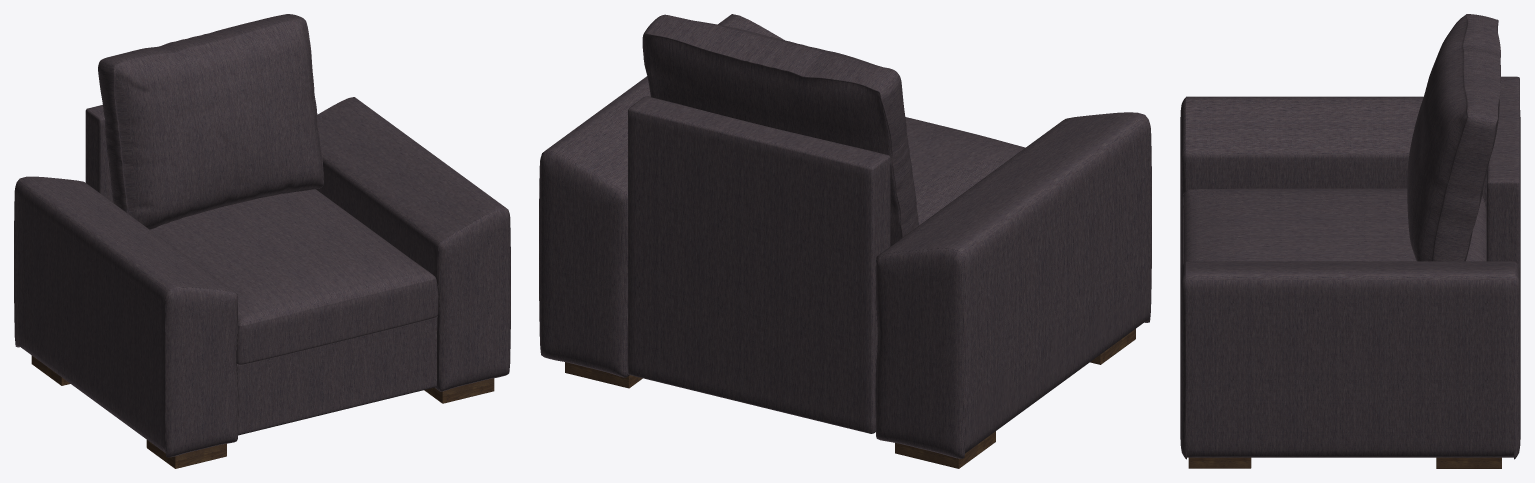
Rendered from Tapicerk_i_krzesla_fotel_darell.obj.
The picture shows the model from 3 angles, left to right: view 1: azimuth 30°, elevation 25°; view 2: azimuth 150°, elevation 25°; view 3: azimuth 270°, elevation 25°; orthographic projection. The views are drawn at different scales.
Visible parts, largest first — view 1: Object011, Box135, Object001, Object012, Box136, Box137, Box009, Box139; view 2: Box137, Object011, Box135, Object012, Object001, Box010, Box138; view 3: Object012, Object011, Object001, Box135, Box137, Box138, Box139.
Boxes of the visible parts, bbox=[...] form: Object011: bbox=[14, 176, 238, 457]; Box135: bbox=[98, 14, 323, 229]; Object001: bbox=[150, 189, 438, 364]; Object012: bbox=[316, 97, 510, 391]; Box136: bbox=[236, 316, 437, 435]; Box137: bbox=[85, 105, 113, 202]; Box009: bbox=[146, 440, 226, 468]; Box139: bbox=[424, 378, 494, 403]; Box137: bbox=[628, 96, 890, 433]; Object011: bbox=[875, 112, 1151, 458]; Box135: bbox=[642, 14, 919, 245]; Object012: bbox=[539, 14, 784, 377]; Object001: bbox=[905, 117, 1025, 225]; Box010: bbox=[895, 431, 995, 468]; Box138: bbox=[565, 362, 642, 388]; Object012: bbox=[1180, 261, 1520, 459]; Object011: bbox=[1180, 96, 1520, 276]; Object001: bbox=[1181, 188, 1486, 267]; Box135: bbox=[1407, 14, 1500, 261]; Box137: bbox=[1487, 76, 1519, 269]; Box138: bbox=[1436, 457, 1501, 468]; Box139: bbox=[1188, 457, 1251, 468].
Size of the model in its own units: 103 by 84.04 by 80.44.
